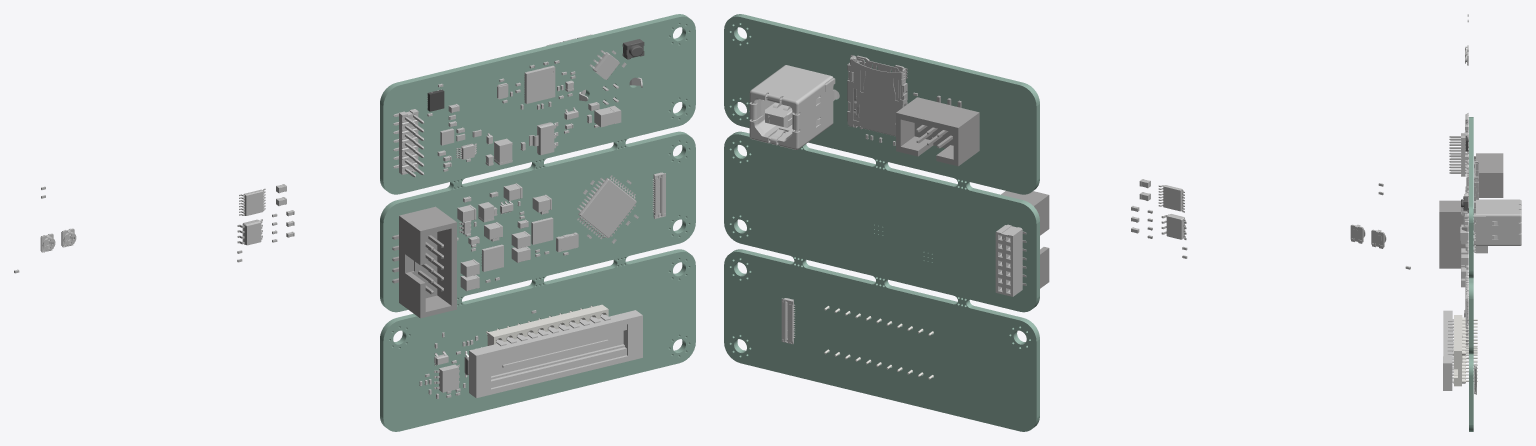
3 views of the same model, side by side, from view 1: azimuth 30°, elevation 25°; view 2: azimuth 150°, elevation 25°; view 3: azimuth 270°, elevation 25° (orthographic). The views are drawn at different scales.
Parts seen in each view (by area): view 1: empty_253, empty_101, empty_169, empty_104, empty_237, empty_100, empty_109, empty_121; view 2: empty_253, empty_247, empty_252, empty_244, empty_246, empty_169; view 3: empty_247, empty_169, empty_253, empty_100, empty_252, empty_101, empty_237, empty_244, empty_246, empty_120, empty_84, empty_104.
Boxes of the visible parts, bbox=[...] form: empty_253: bbox=[380, 14, 695, 431]; empty_101: bbox=[469, 310, 642, 398]; empty_169: bbox=[392, 206, 456, 318]; empty_104: bbox=[577, 175, 636, 239]; empty_237: bbox=[393, 109, 424, 177]; empty_100: bbox=[486, 304, 608, 345]; empty_109: bbox=[524, 65, 555, 103]; empty_121: bbox=[529, 122, 558, 155]; empty_253: bbox=[724, 14, 1039, 431]; empty_247: bbox=[749, 65, 839, 149]; empty_252: bbox=[896, 95, 979, 166]; empty_244: bbox=[847, 55, 907, 136]; empty_246: bbox=[995, 224, 1026, 296]; empty_169: bbox=[1001, 191, 1049, 288]; empty_247: bbox=[1461, 199, 1521, 245]; empty_169: bbox=[1439, 200, 1465, 268]; empty_253: bbox=[1469, 117, 1473, 431]; empty_100: bbox=[1453, 315, 1477, 386]; empty_252: bbox=[1474, 153, 1503, 197]; empty_101: bbox=[1443, 310, 1453, 390]; empty_237: bbox=[1449, 133, 1468, 176]; empty_244: bbox=[1474, 161, 1478, 222]; empty_246: bbox=[1473, 221, 1487, 253]; empty_120: bbox=[1465, 295, 1468, 326]; empty_84: bbox=[1461, 196, 1468, 210]; empty_104: bbox=[1465, 273, 1468, 313].
Bounding box in the file's own units: 0.1663 × 0.0807 × 0.0269.
